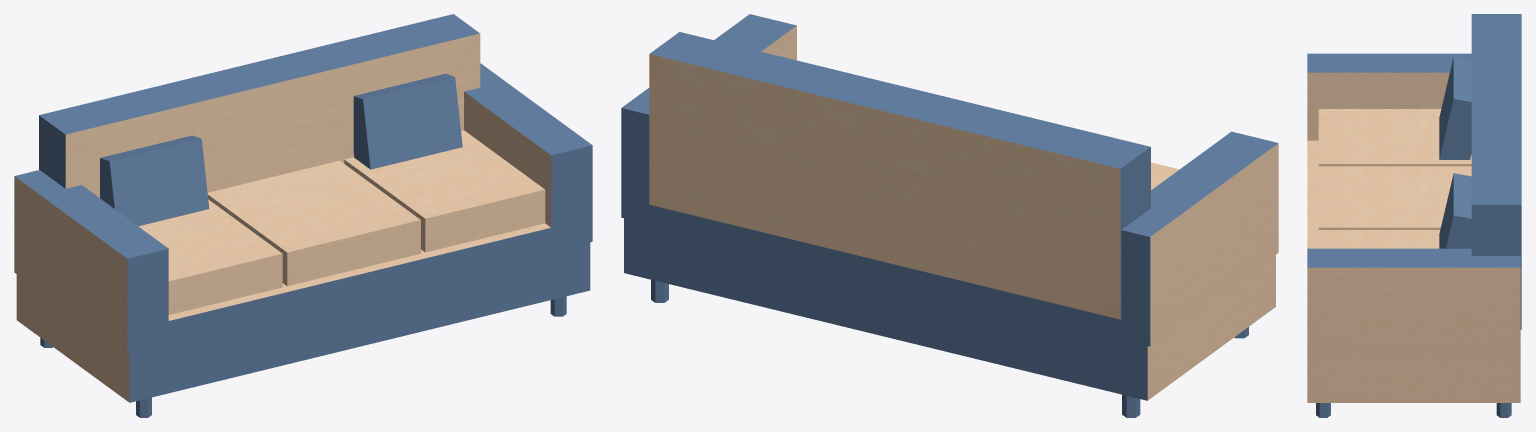
Rendered from Sofa.fbx.
3 renders of one model, left to right at view 1: azimuth 30°, elevation 25°; view 2: azimuth 150°, elevation 25°; view 3: azimuth 270°, elevation 25°, orthographic. The views are drawn at different scales.
Visible parts, largest first — view 1: Sofa; view 2: Sofa; view 3: Sofa.
Boxes of the visible parts, <box> form: Sofa: <box>14,14,592,417</box>; Sofa: <box>621,14,1278,417</box>; Sofa: <box>1307,14,1521,417</box>.
Bounding box in the file's own units: 2.02 × 0.925 × 0.855.
1 material, 1 textured.
